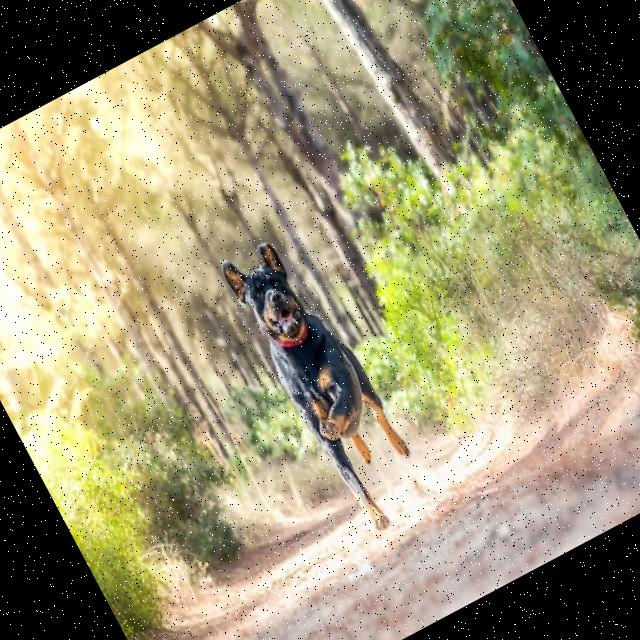Dog: (216, 223, 438, 543)
